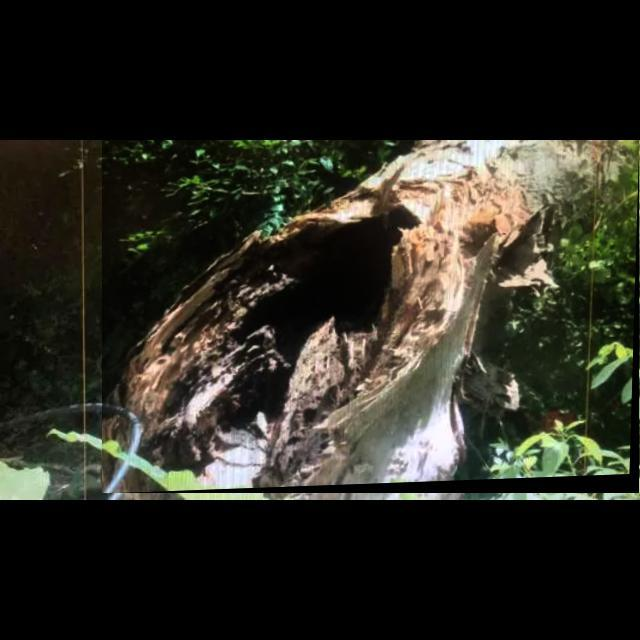fallen_tree: (102, 140, 640, 494)
